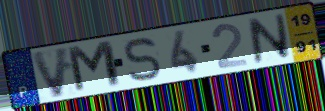2: (210, 22, 252, 71)
4: (169, 28, 202, 76)
M: (64, 38, 125, 95)
N: (246, 12, 292, 66)
S: (123, 35, 163, 83)
V: (28, 44, 72, 100)
